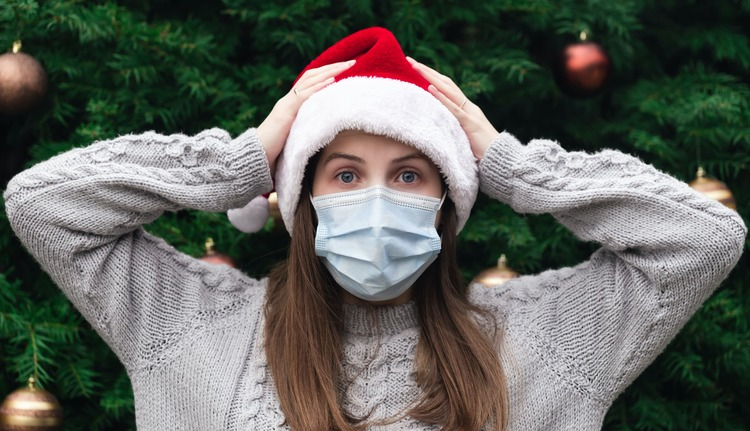with_mask: (312, 146, 445, 286)
